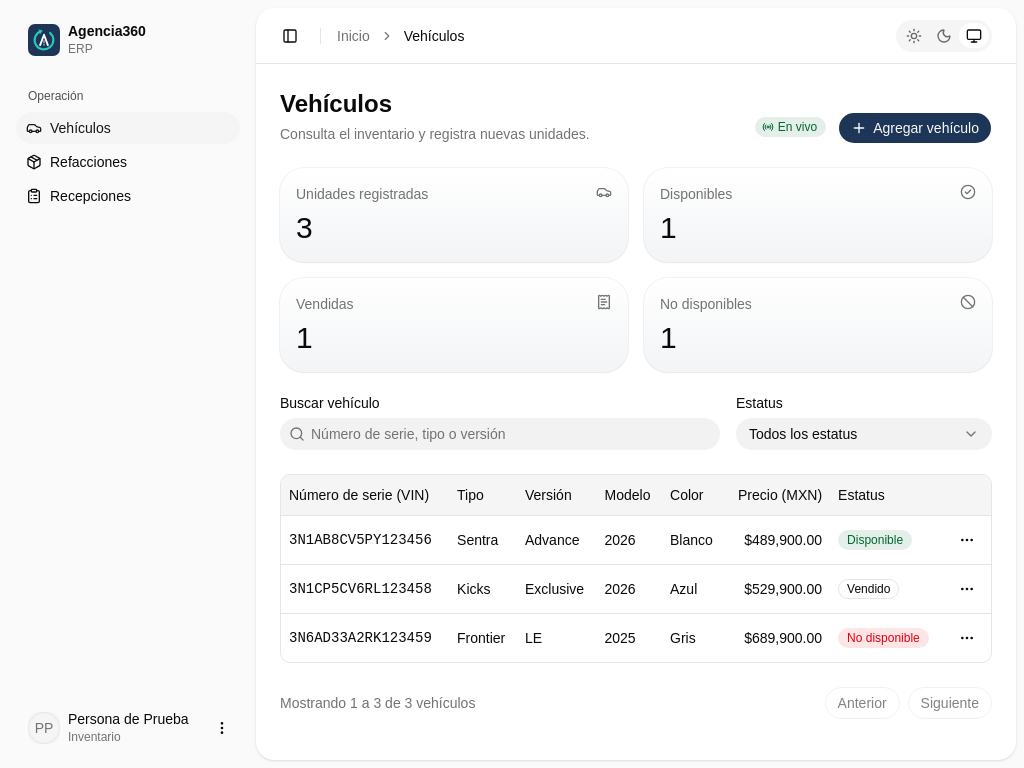
Test: Inventario de vehículos › lleva a la edición desde el menú de la fila
Click the button named "Acciones de 3N1AB8CV5PY123456": point(967, 540) [951,524,983,556]
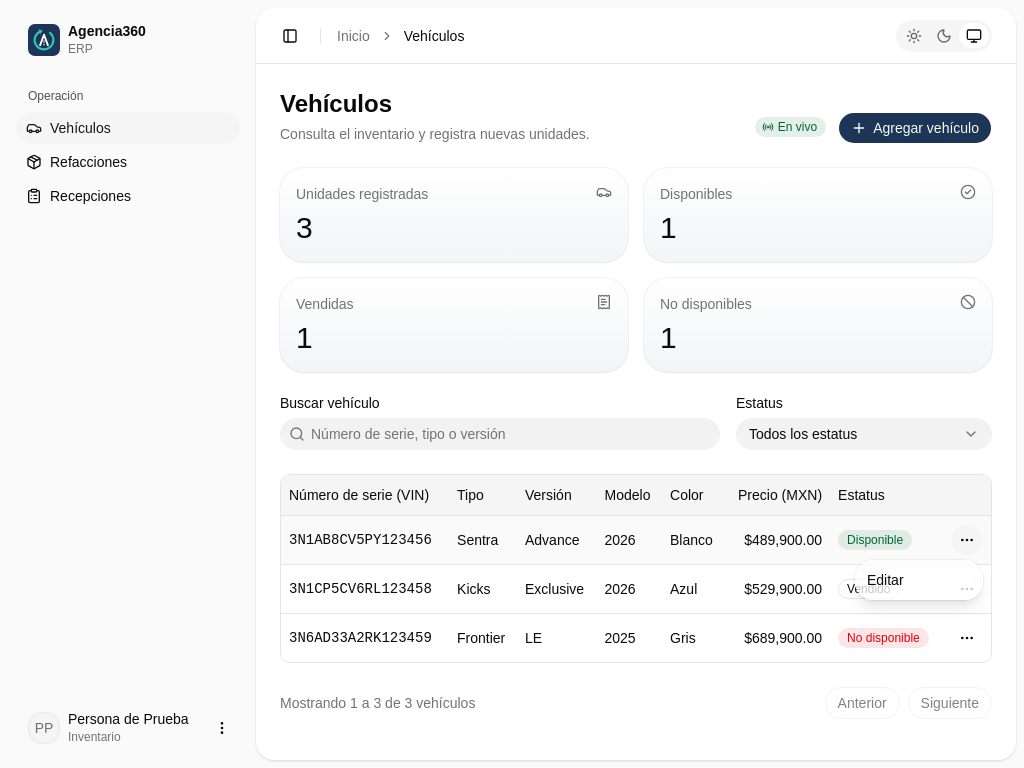
Click the menu item "Editar": point(885, 580) [867,572,904,588]
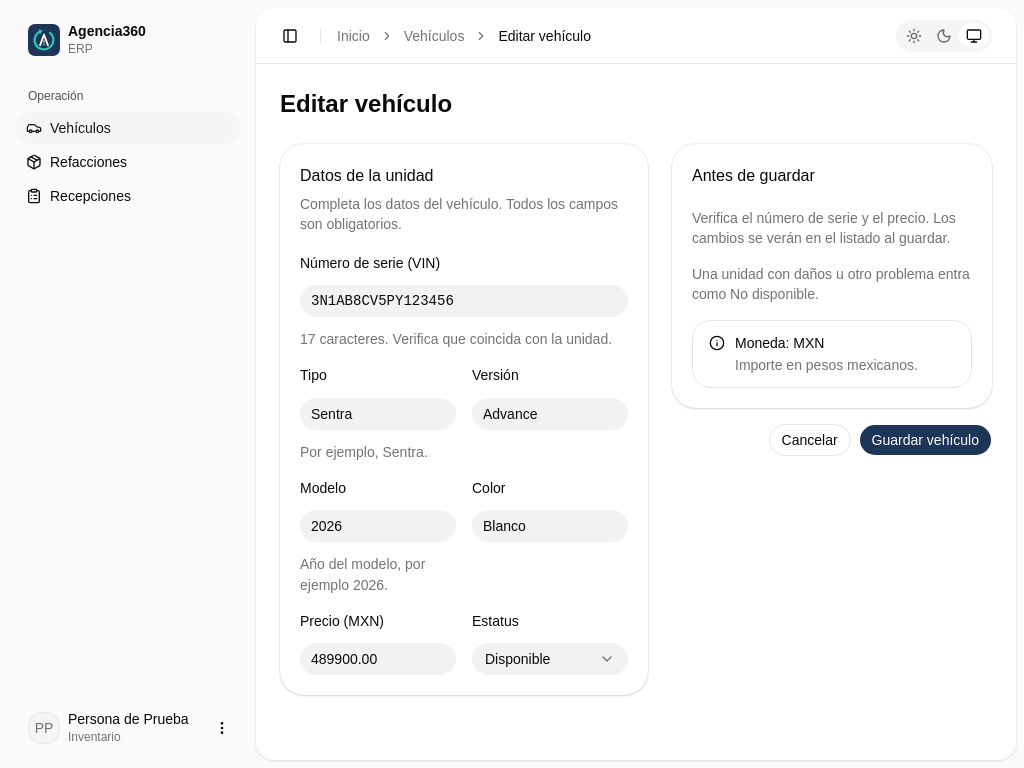
Now the heading "Editar vehículo" is shown, box [280,88,452,120]
